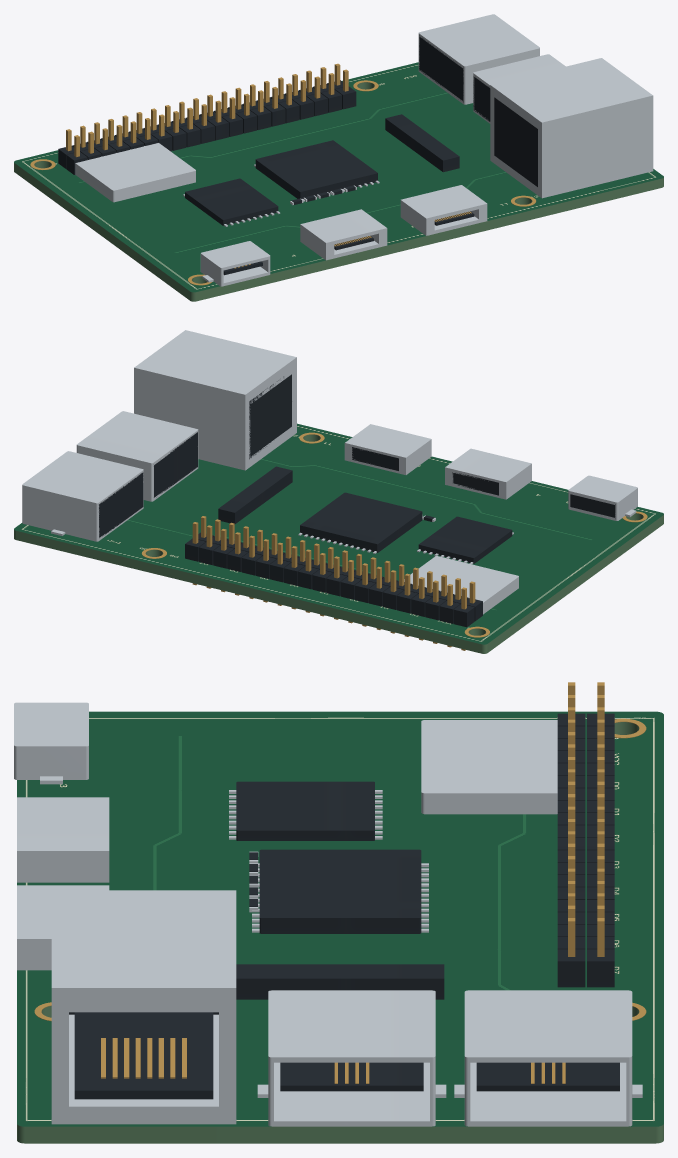
The model's file is raspberry-pi.glb.
3 views of the same model, one above another, from view 1: azimuth 30°, elevation 25°; view 2: azimuth 150°, elevation 25°; view 3: azimuth 270°, elevation 25° (orthographic). The views are drawn at different scales.
Parts seen in each view (by area): view 1: 402_single_board_computer_silkscreen_2k.png, aluminum, black, green, brass; view 2: 402_single_board_computer_silkscreen_2k.png, aluminum, black, green, brass; view 3: 402_single_board_computer_silkscreen_2k.png, aluminum, black, green, brass.
Part boxes in pixels (x1,y1,x2,y2): 402_single_board_computer_silkscreen_2k.png: (14, 62, 663, 292); aluminum: (75, 14, 653, 286); black: (58, 35, 537, 275); green: (14, 82, 663, 301); brass: (30, 63, 536, 285); 402_single_board_computer_silkscreen_2k.png: (14, 423, 663, 644); aluminum: (22, 330, 637, 614); black: (99, 374, 615, 627); green: (14, 434, 663, 653); brass: (141, 432, 647, 650); 402_single_board_computer_silkscreen_2k.png: (17, 711, 663, 1126); aluminum: (14, 702, 642, 1126); black: (69, 713, 619, 1099); green: (17, 722, 663, 1143); brass: (34, 682, 646, 1083).
Bounding box in the file's own units: 0.085 × 0.0176 × 0.0563.
Materials: 5 (5 with a texture image).
